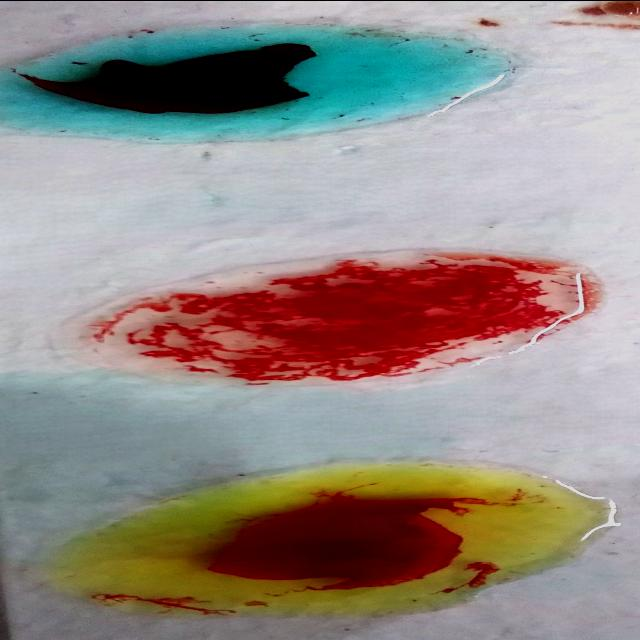A: (2, 27, 506, 144)
B: (41, 475, 614, 616)
D: (75, 250, 600, 378)
